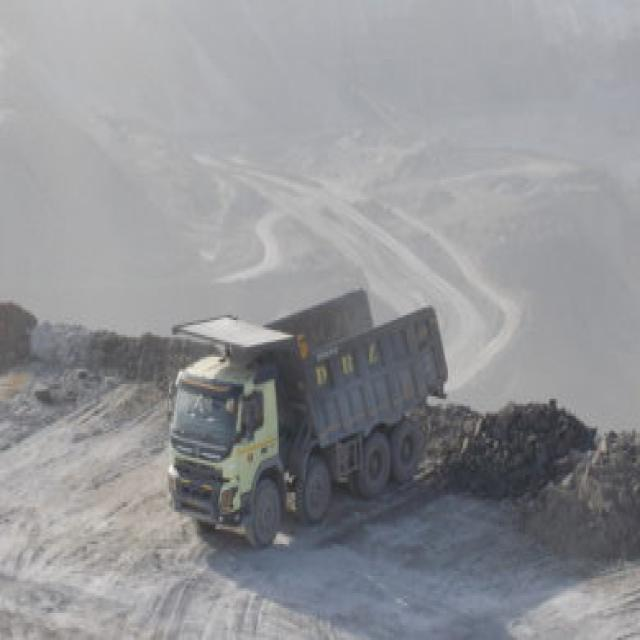dump_truck: (159, 295, 444, 544)
